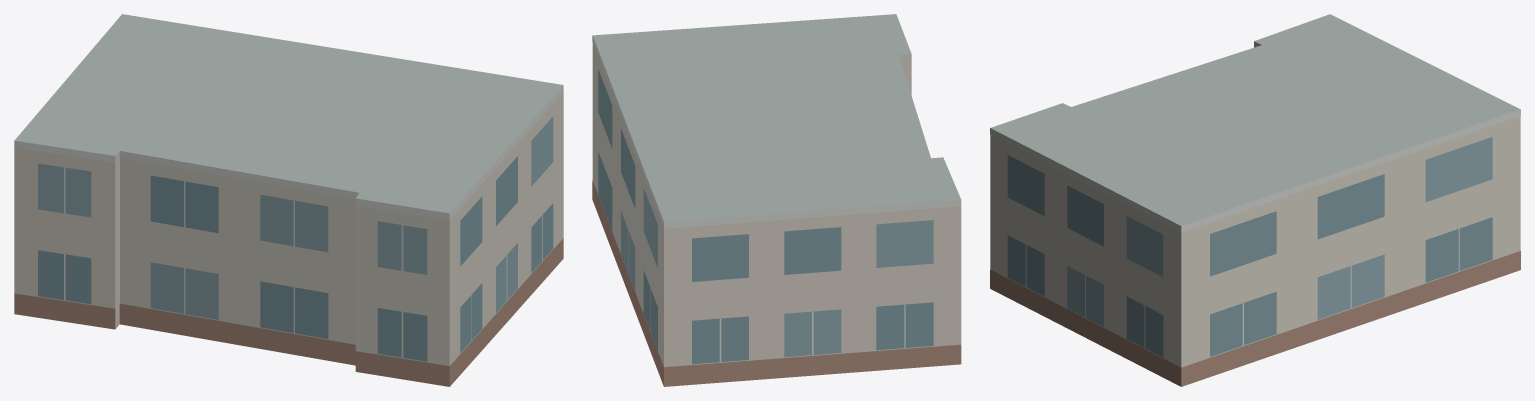
The model's file is survey-upis-32774851.glb.
3 views of the same model, side by side, from view 1: azimuth 30°, elevation 25°; view 2: azimuth 150°, elevation 25°; view 3: azimuth 270°, elevation 25° (orthographic). The views are drawn at different scales.
Parts seen in each view (by area): view 1: survey-upis-32774851.tmp; view 2: survey-upis-32774851.tmp; view 3: survey-upis-32774851.tmp.
Part boxes in pixels (bbox=[...]): survey-upis-32774851.tmp: bbox=[14, 14, 563, 386]; survey-upis-32774851.tmp: bbox=[592, 14, 961, 386]; survey-upis-32774851.tmp: bbox=[990, 14, 1520, 386].
Bounding box in the file's own units: 17.27 × 6.1 × 18.25.
